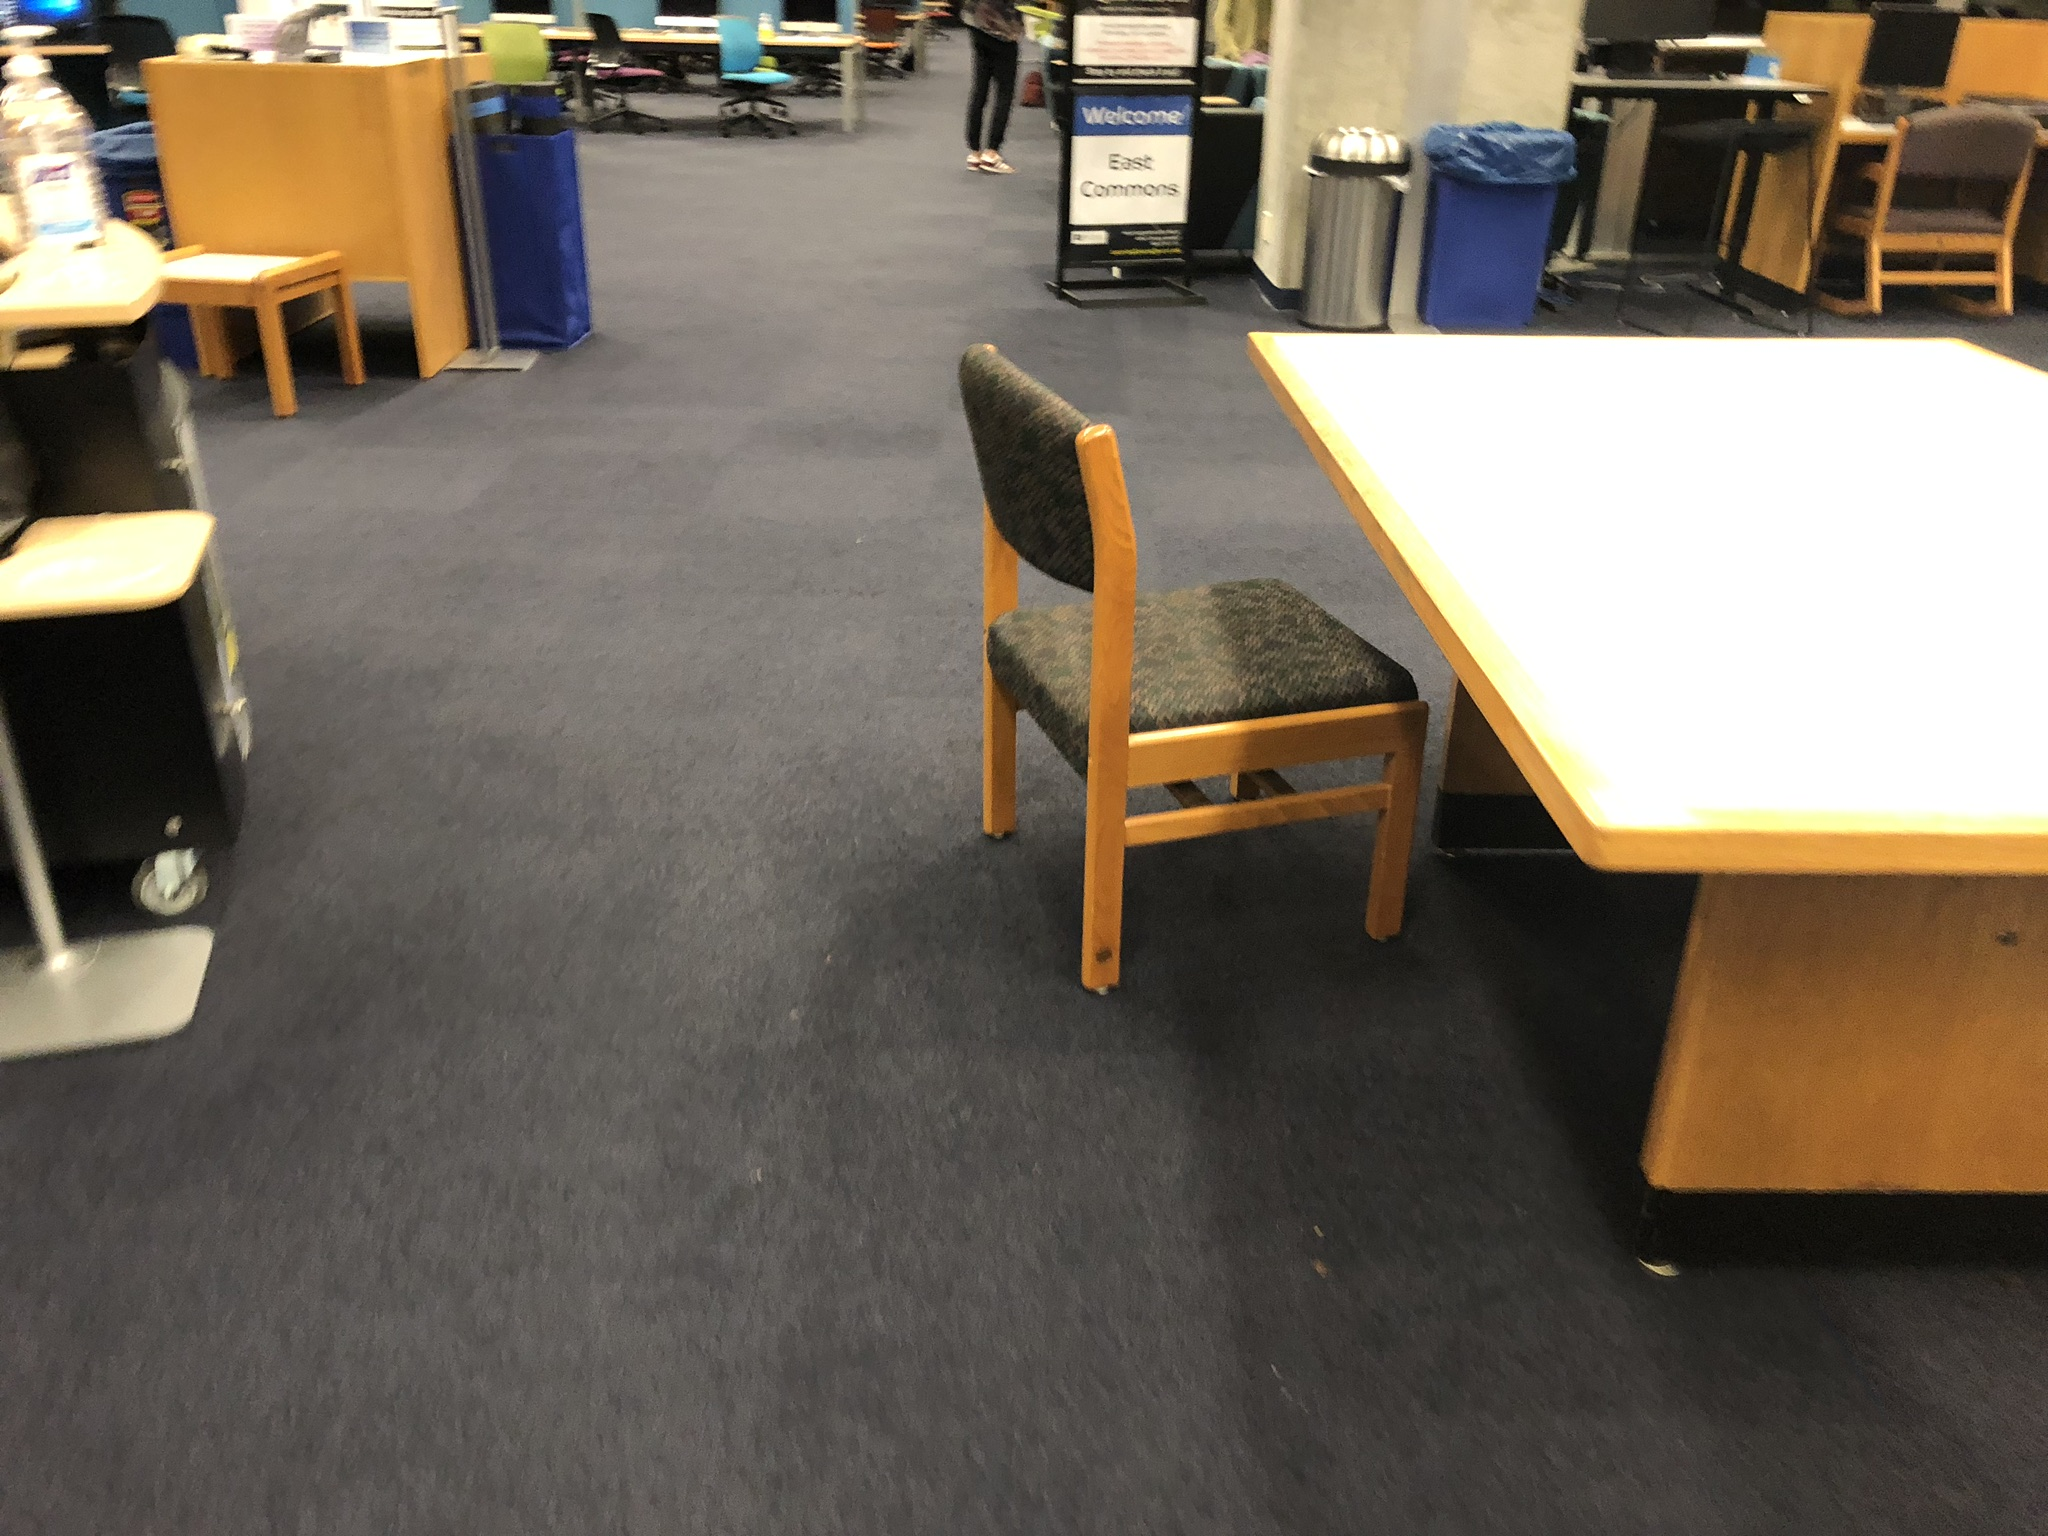Obstacle: (930, 328, 2038, 1275), (1053, 10, 2037, 345), (3, 48, 252, 1060), (102, 3, 590, 424)
